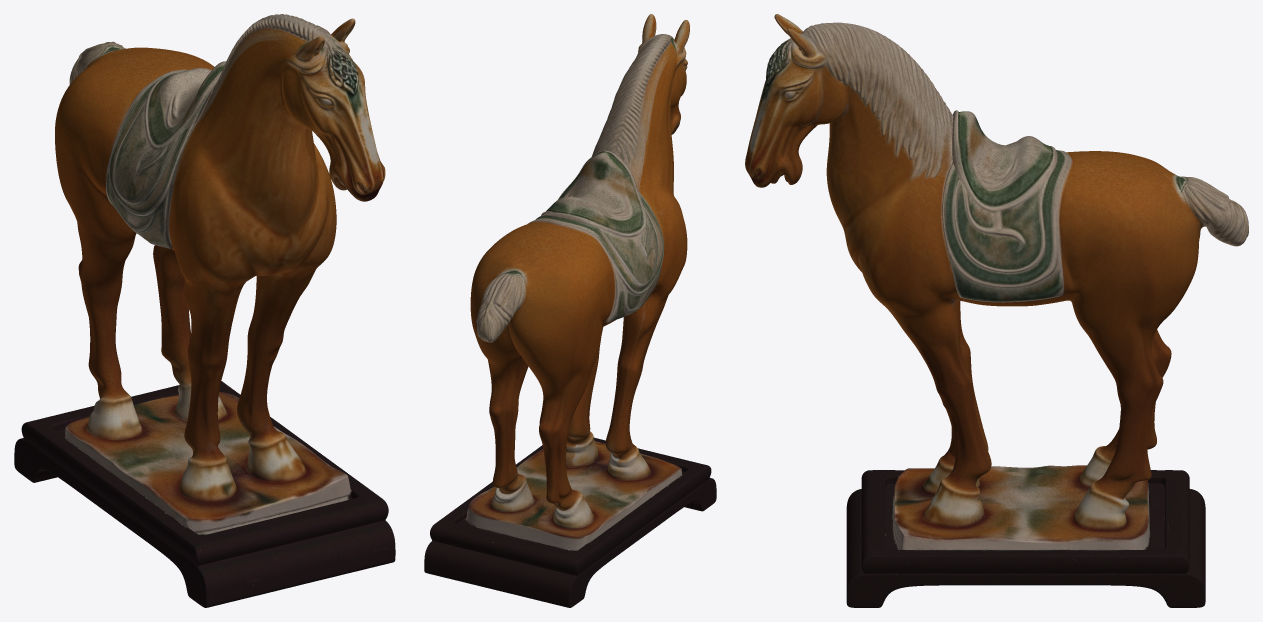
The picture shows the model from 3 angles, left to right: view 1: azimuth 30°, elevation 25°; view 2: azimuth 150°, elevation 25°; view 3: azimuth 270°, elevation 25°; orthographic projection. The views are drawn at different scales.
Bounding box in the file's own units: 0.6542 × 1.9 × 1.59.
Materials: 1 (1 with a texture image).
